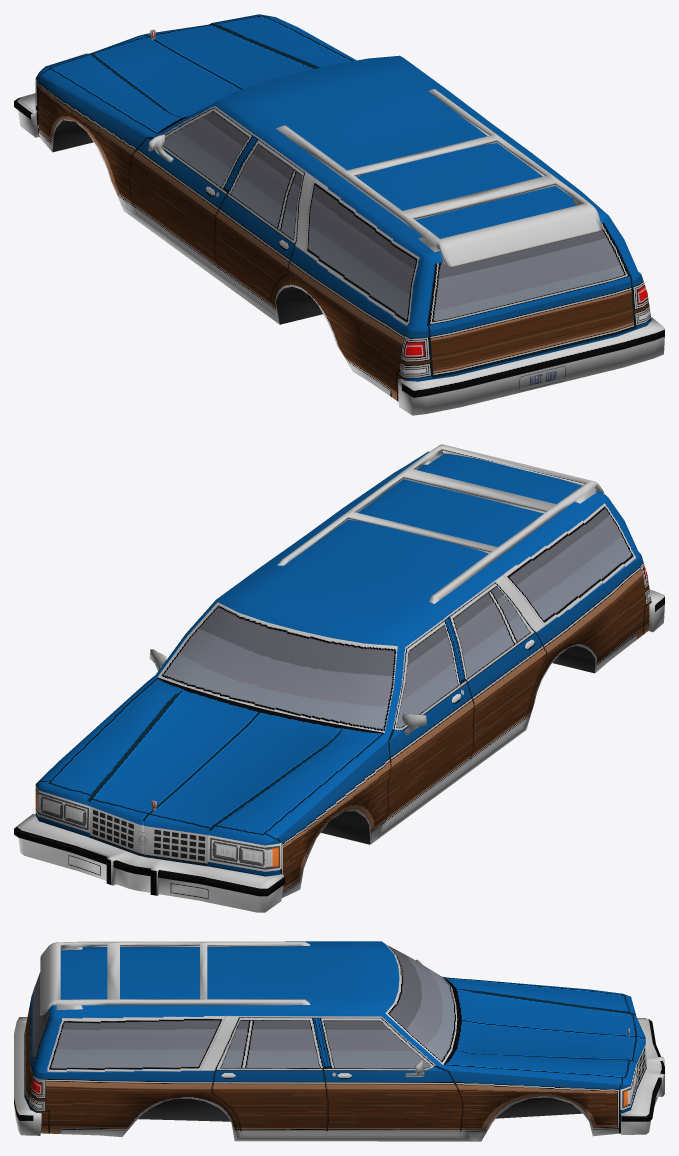
The model's file is 90customcruiser.fbx.
The picture shows the model from 3 angles, top to bottom: view 1: azimuth 30°, elevation 25°; view 2: azimuth 150°, elevation 25°; view 3: azimuth 270°, elevation 25°; orthographic projection. The views are drawn at different scales.
Parts seen in each view (by area): view 1: 90customcruiser; view 2: 90customcruiser; view 3: 90customcruiser.
Boxes of the visible parts, x1=… form: 90customcruiser: x1=14, y1=14, x2=664, y2=415; 90customcruiser: x1=14, y1=444, x2=664, y2=912; 90customcruiser: x1=14, y1=941, x2=664, y2=1141.
Size of the model in its own units: 2.11 by 1.13 by 5.44.
